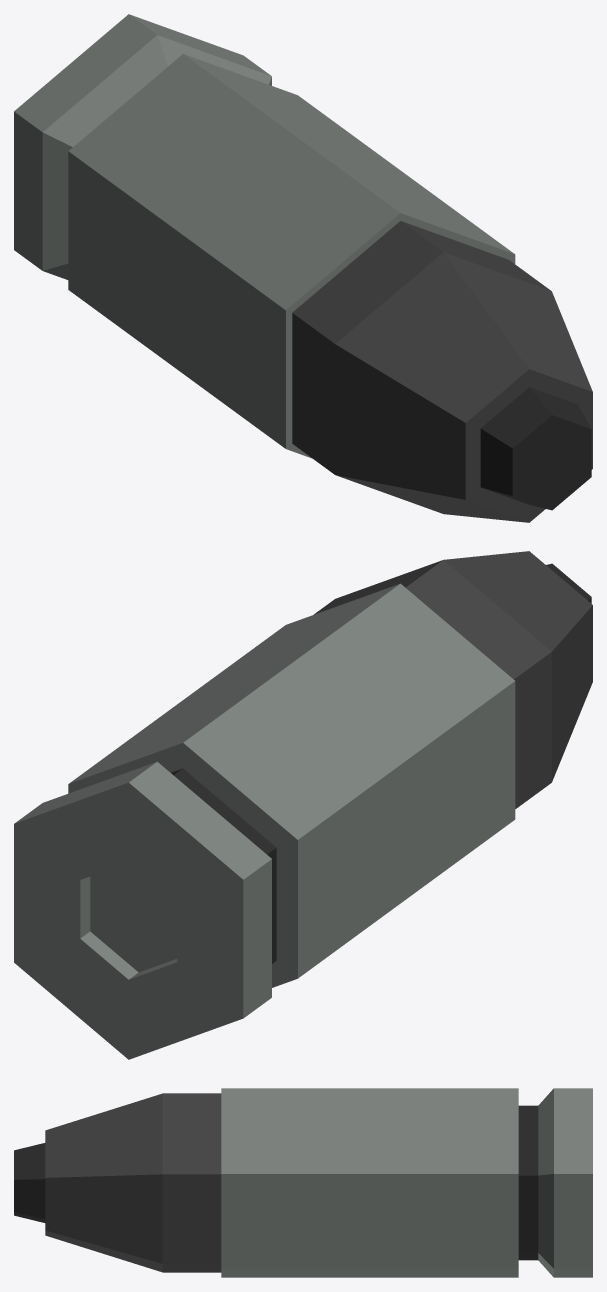
The model's file is Bullet_Pistol_C.fbx.
3 views of the same model, one above another, from view 1: azimuth 30°, elevation 25°; view 2: azimuth 150°, elevation 25°; view 3: azimuth 270°, elevation 25° (orthographic). The views are drawn at different scales.
Visible parts, largest first — view 1: Bullet_Pistol_C, Bullet_Pistol_C_Part; view 2: Bullet_Pistol_C, Bullet_Pistol_C_Part; view 3: Bullet_Pistol_C, Bullet_Pistol_C_Part.
Part boxes in pixels (<box>): Bullet_Pistol_C: <box>14,14,515,458</box>; Bullet_Pistol_C_Part: <box>292,221,592,522</box>; Bullet_Pistol_C: <box>14,583,515,1059</box>; Bullet_Pistol_C_Part: <box>314,551,592,808</box>; Bullet_Pistol_C: <box>221,1088,592,1277</box>; Bullet_Pistol_C_Part: <box>14,1093,221,1272</box>.
Size of the model in its own units: 0.0116 by 0.0134 by 0.037.
